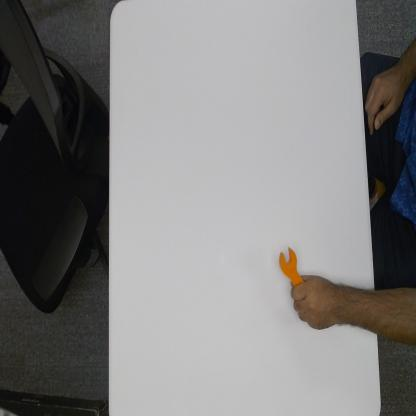Hand: (290, 273, 345, 333)
Screwdriver: (278, 244, 300, 282)
